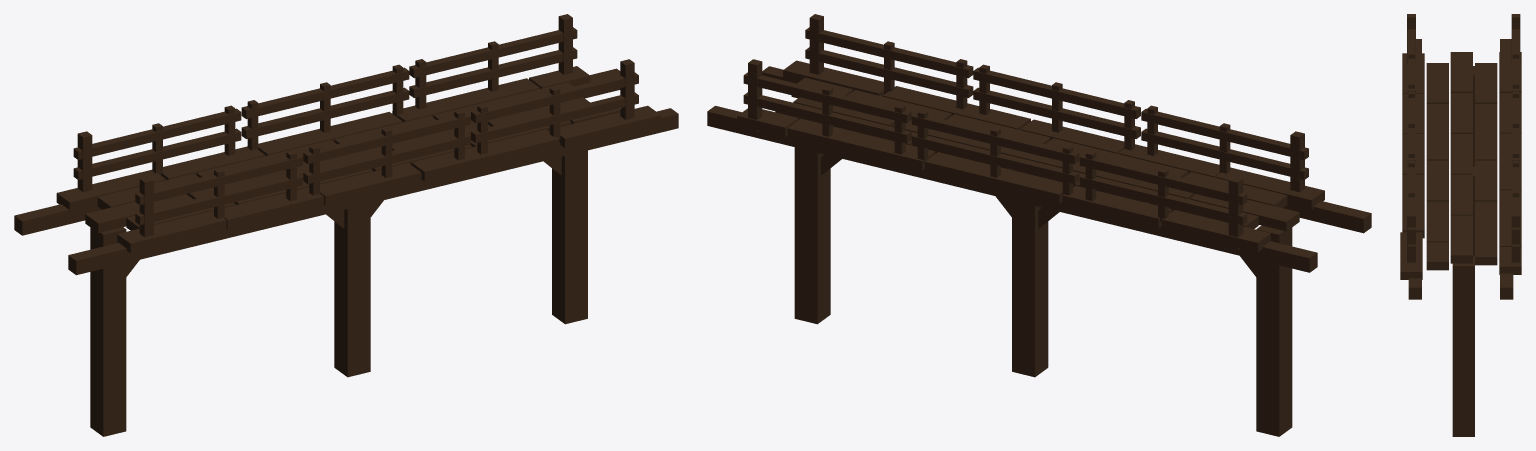
Rendered from Wood Bridge .obj.
The picture shows the model from 3 angles, left to right: view 1: azimuth 30°, elevation 25°; view 2: azimuth 150°, elevation 25°; view 3: azimuth 270°, elevation 25°; orthographic projection. The views are drawn at different scales.
Parts seen in each view (by area): view 1: wood_Bridge_1; view 2: wood_Bridge_1; view 3: wood_Bridge_1.
Boxes of the visible parts, x1,y1,x2,y2 form: wood_Bridge_1: (14,14,678,436); wood_Bridge_1: (707,14,1371,436); wood_Bridge_1: (1400,14,1521,436).
Bounding box in the file's own units: 1579 × 678 × 325.
1 material, 1 textured.
